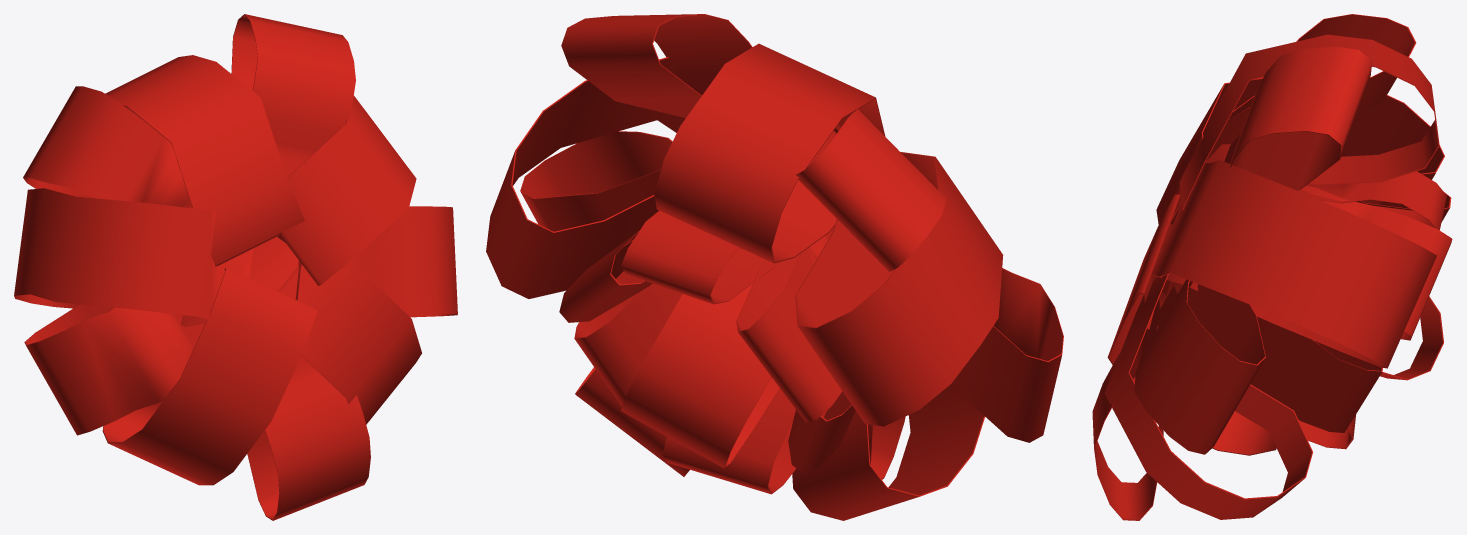
The model's file is bow.obj.
3 views of the same model, side by side, from view 1: azimuth 30°, elevation 25°; view 2: azimuth 150°, elevation 25°; view 3: azimuth 270°, elevation 25° (orthographic). The views are drawn at different scales.
Parts seen in each view (by area): view 1: dynamic; view 2: dynamic; view 3: dynamic.
Part boxes in pixels (box(x1,y1,x2,y2)): dynamic: box(14, 14, 457, 520); dynamic: box(486, 14, 1063, 520); dynamic: box(1092, 14, 1452, 520).
Size of the model in its own units: 18.47 by 17.24 by 11.78.
